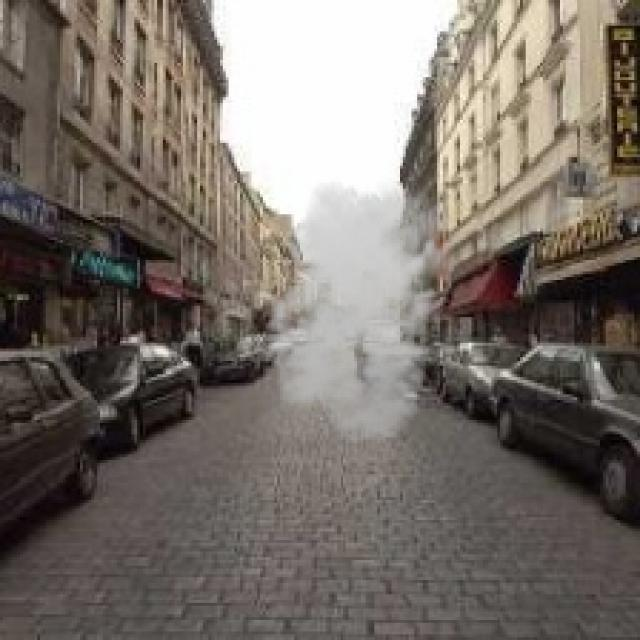Smoke: (260, 171, 463, 446)
